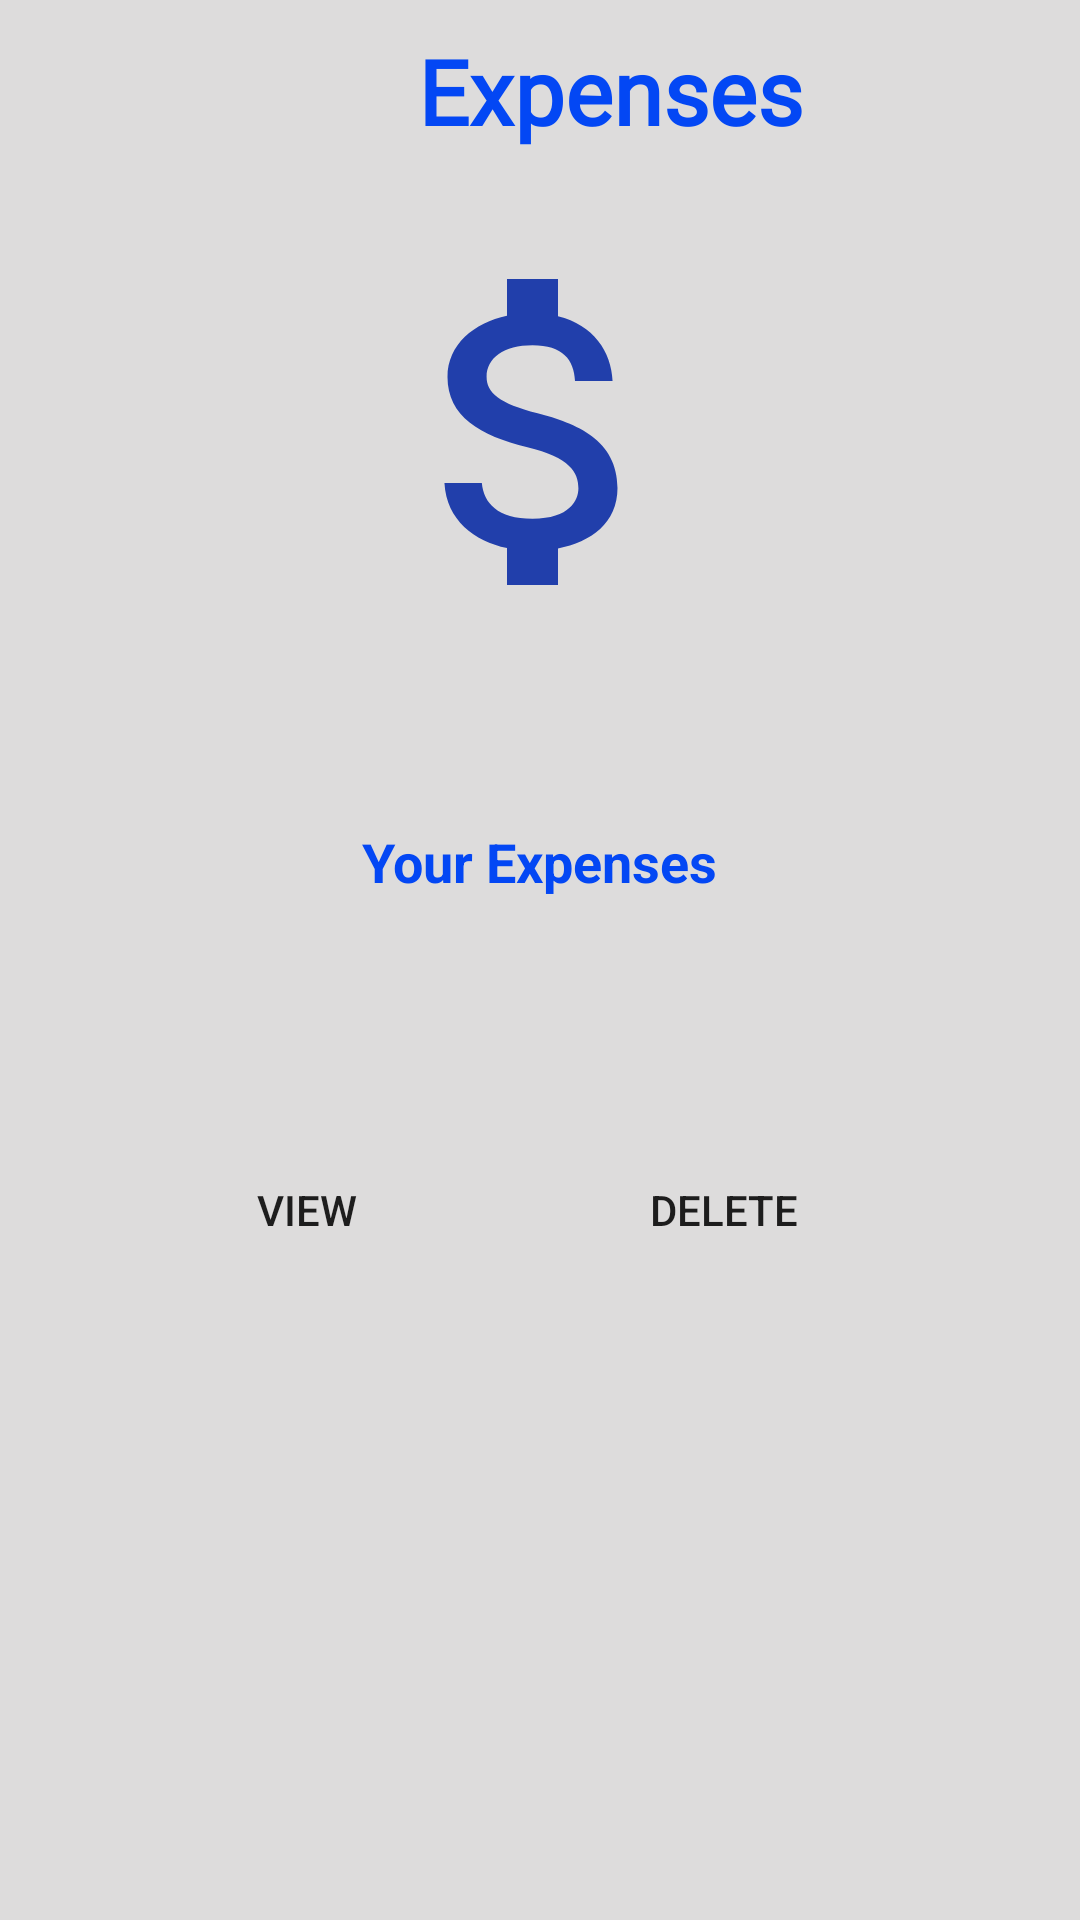

Named icons in this screenshot (1080×1920) and their bounding boxes, (x1, y1, x2, y2):
money: (444, 279, 618, 585)
